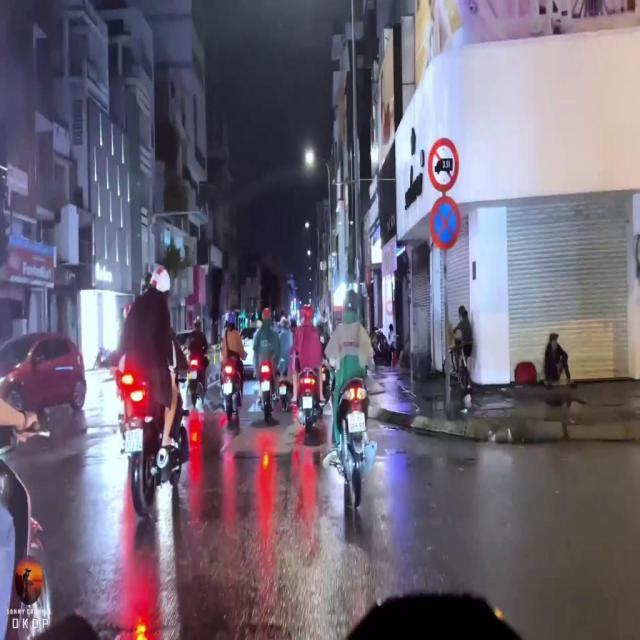106-cam-oto-tai: (428, 138, 458, 192)
130-cam-dung-va-do-xe: (428, 196, 462, 252)
